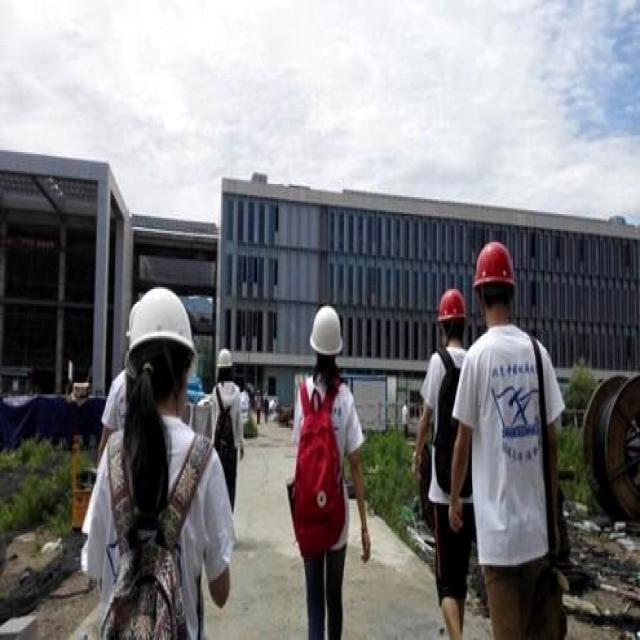hard_hat: (125, 287, 195, 375), (473, 240, 513, 289), (309, 306, 341, 357), (437, 289, 465, 325), (216, 347, 233, 368)
person: (88, 289, 211, 638), (462, 242, 566, 638), (291, 306, 370, 638), (415, 289, 473, 638), (211, 349, 243, 512)
